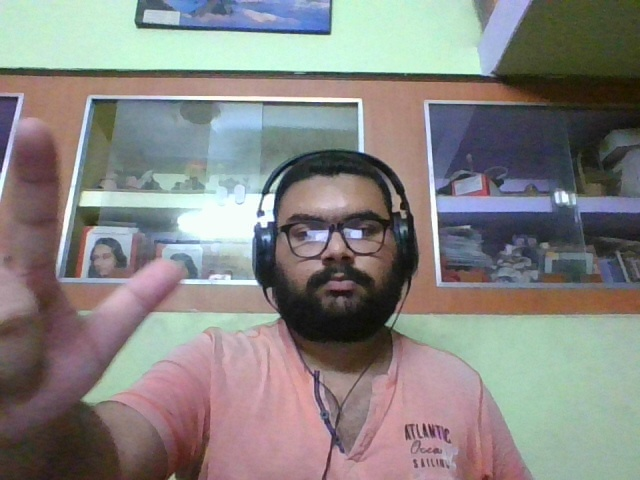hello: (1, 118, 185, 444)
